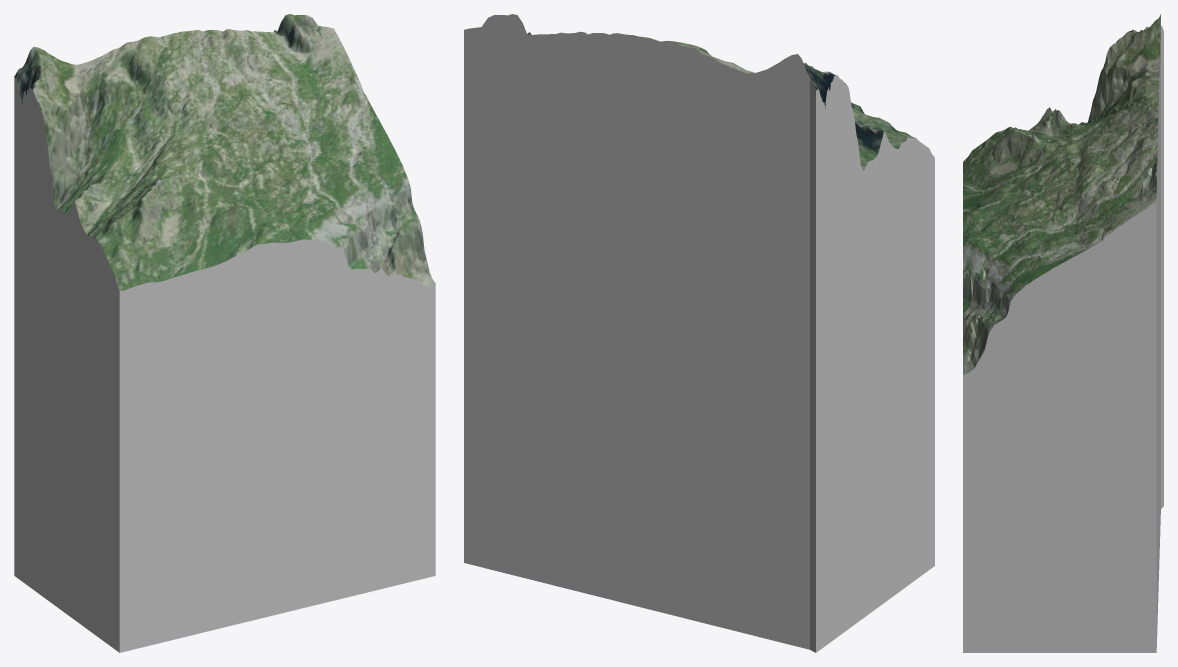
File: GrindScene13.gltf
3 views of the same model, side by side, from view 1: azimuth 30°, elevation 25°; view 2: azimuth 150°, elevation 25°; view 3: azimuth 270°, elevation 25° (orthographic). The views are drawn at different scales.
Parts seen in each view (by area): view 1: Plane; view 2: Plane; view 3: Plane.
Part boxes in pixels (x1,y1,x2,y2): Plane: (14, 14, 435, 652); Plane: (464, 14, 934, 652); Plane: (963, 14, 1163, 652).
Bounding box in the file's own units: 0.6 × 0.954 × 0.3468.
2 materials, 1 textured.
